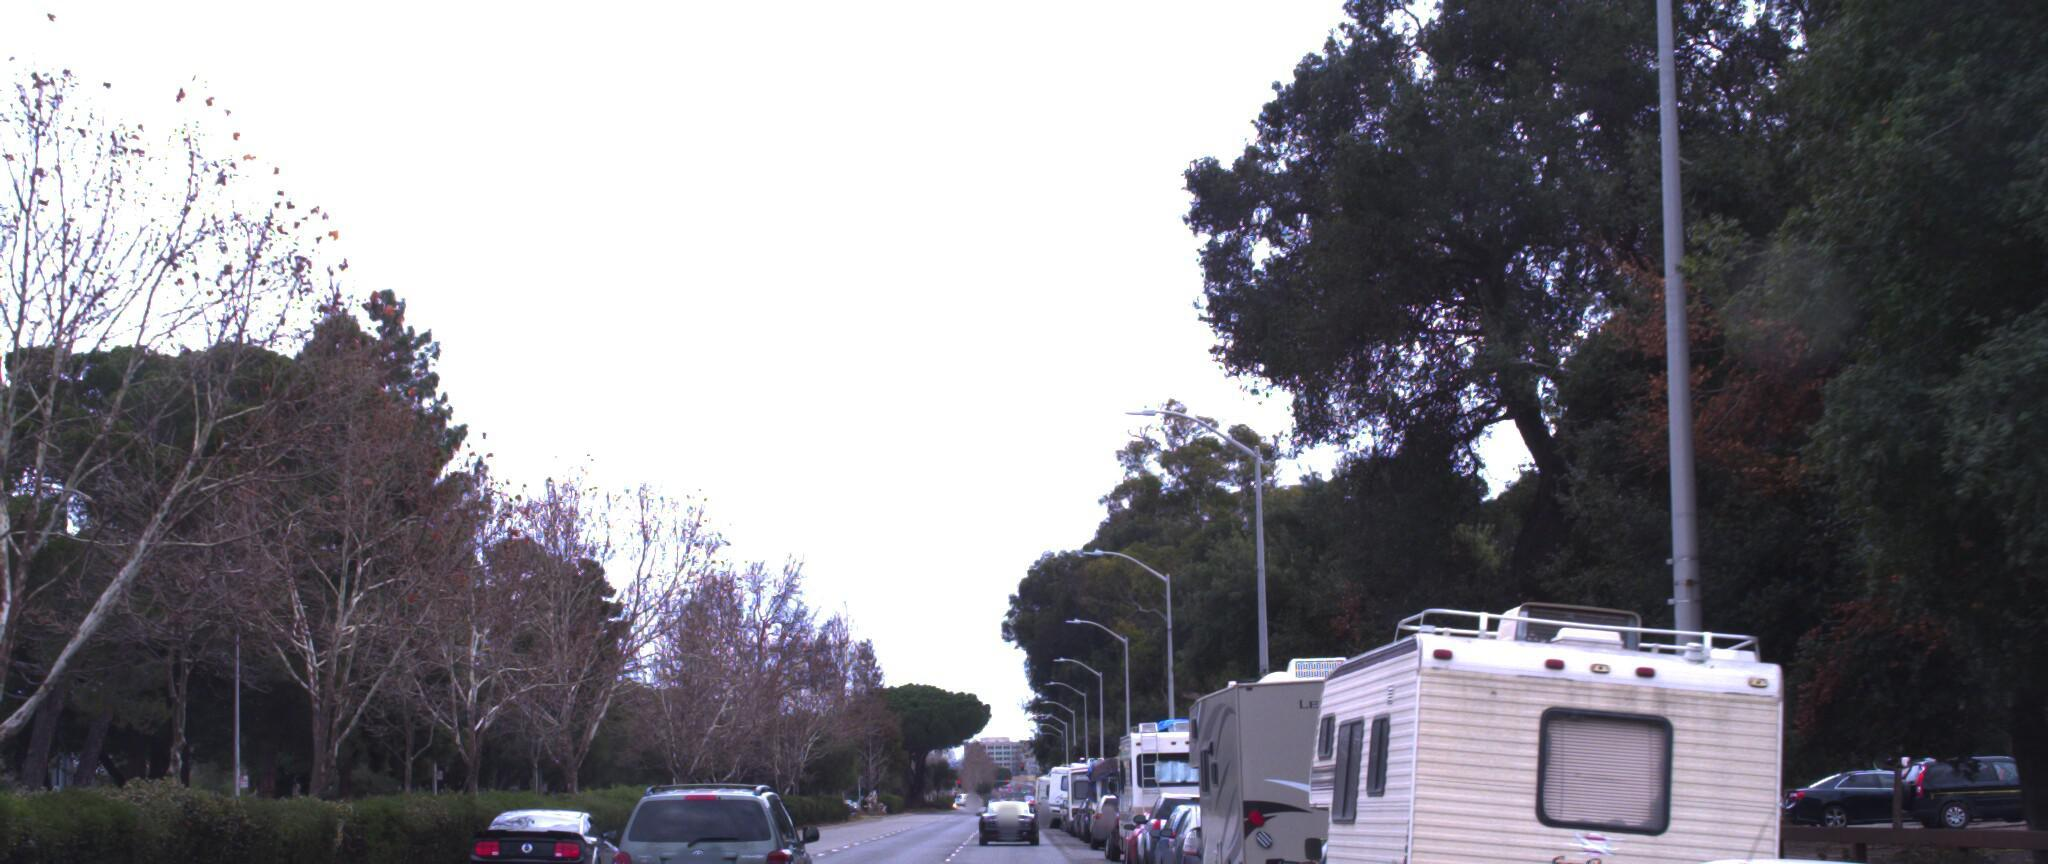car: (1473, 822, 2048, 864), (620, 767, 827, 864), (1254, 803, 1528, 864), (1740, 817, 2048, 864), (469, 784, 635, 864), (1114, 775, 1240, 864), (1142, 788, 1285, 864)
other_vehicle: (1262, 553, 1842, 864), (1166, 638, 1475, 864), (1096, 706, 1251, 864)
